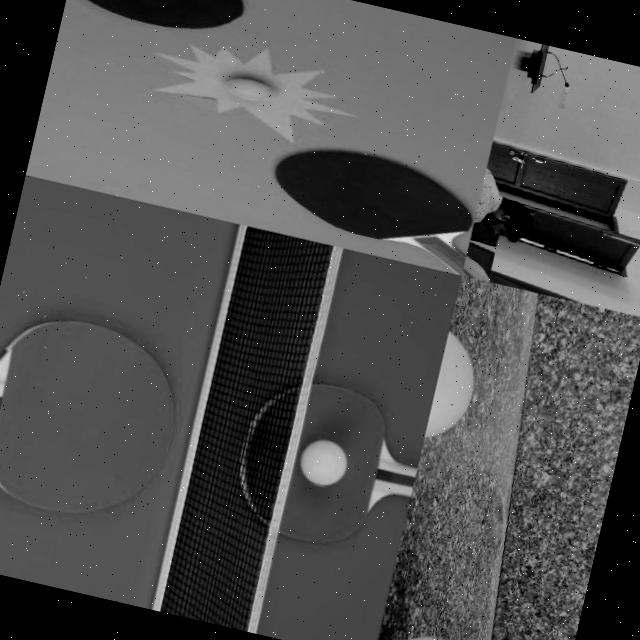ping-pong-ball: (424, 324, 488, 448), (298, 436, 351, 488), (225, 74, 278, 103)
